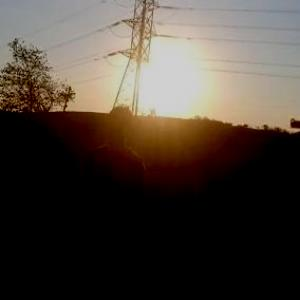follow: (70, 101, 151, 299)
